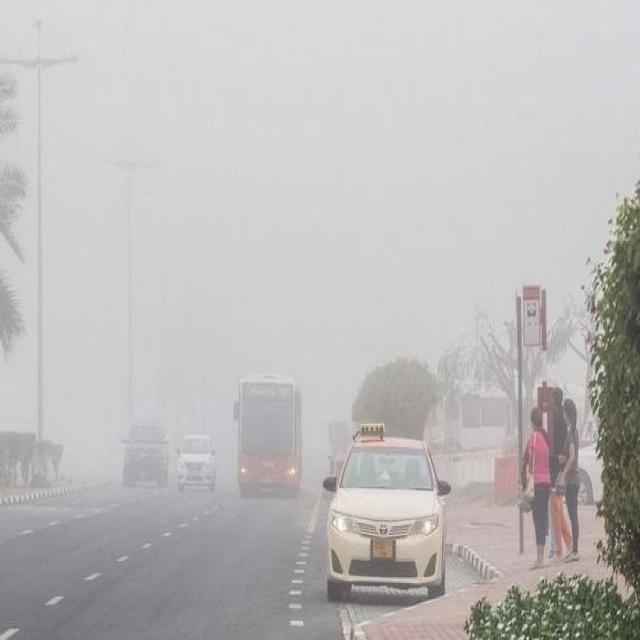Bus: (231, 370, 303, 497)
Car: (320, 419, 454, 600), (121, 418, 171, 486), (175, 433, 219, 493)
